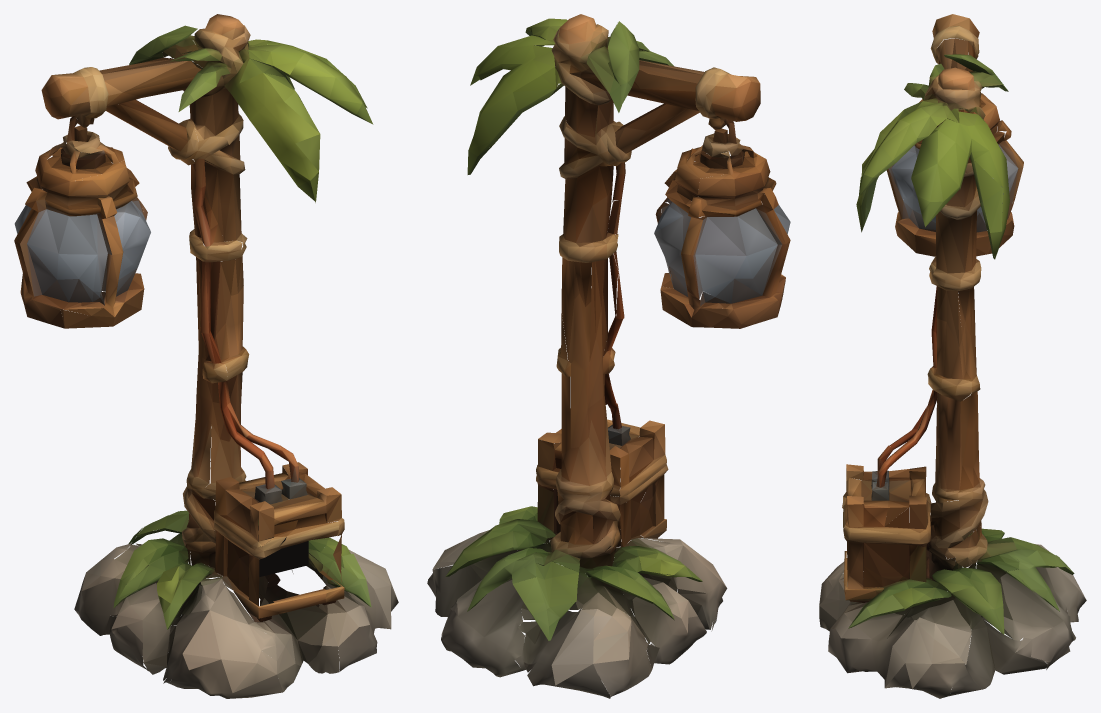
Rendered from building-circuitLamp-open.glb.
3 renders of one model, left to right at view 1: azimuth 30°, elevation 25°; view 2: azimuth 150°, elevation 25°; view 3: azimuth 270°, elevation 25°, orthographic. The views are drawn at different scales.
Parts seen in each view (by area): view 1: 0_circuitLamp; view 2: 0_circuitLamp; view 3: 0_circuitLamp.
Boxes of the visible parts, x1=… form: 0_circuitLamp: x1=14, y1=14, x2=398, y2=698; 0_circuitLamp: x1=427, y1=14, x2=790, y2=698; 0_circuitLamp: x1=819, y1=14, x2=1086, y2=698.
Bounding box in the file's own units: 1.54 × 2.51 × 1.08.
